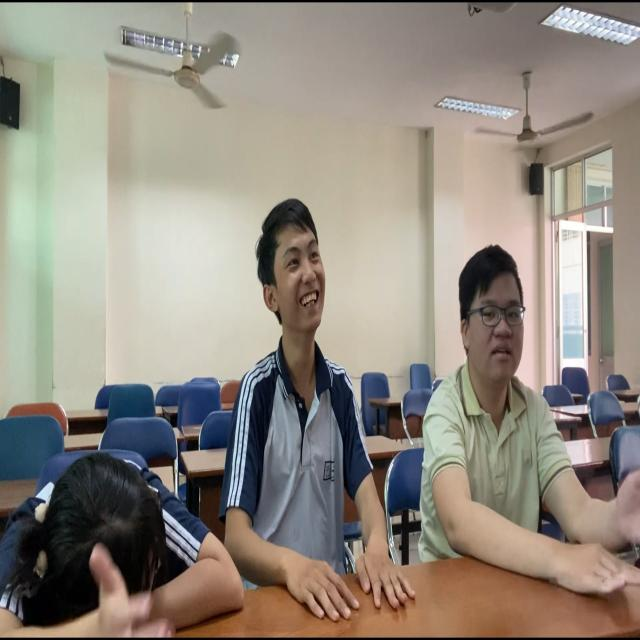sleep: (1, 435, 243, 640)
